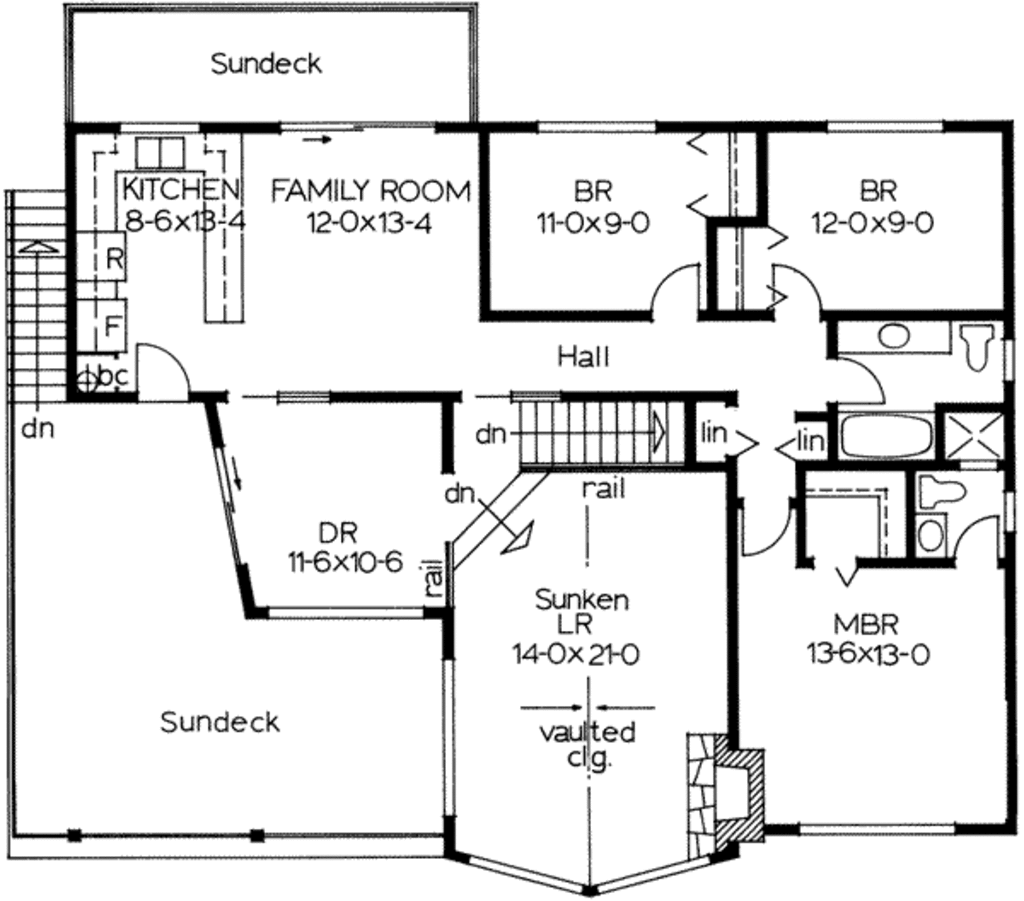door: (122, 330, 199, 405), (818, 345, 892, 413), (642, 261, 710, 324), (765, 256, 831, 320), (731, 497, 792, 558), (949, 511, 1004, 572)
large_sink: (951, 311, 1001, 379), (914, 474, 982, 509)
small_sink: (836, 319, 949, 355), (913, 515, 956, 567)
stairs: (506, 387, 742, 470), (1, 186, 67, 405)
tub: (833, 409, 939, 455)
twin_sink: (125, 134, 206, 181)
window: (271, 108, 440, 142), (435, 655, 460, 822), (793, 817, 957, 841), (533, 113, 661, 142), (828, 112, 950, 137), (996, 334, 1017, 388), (1001, 484, 1018, 537)
